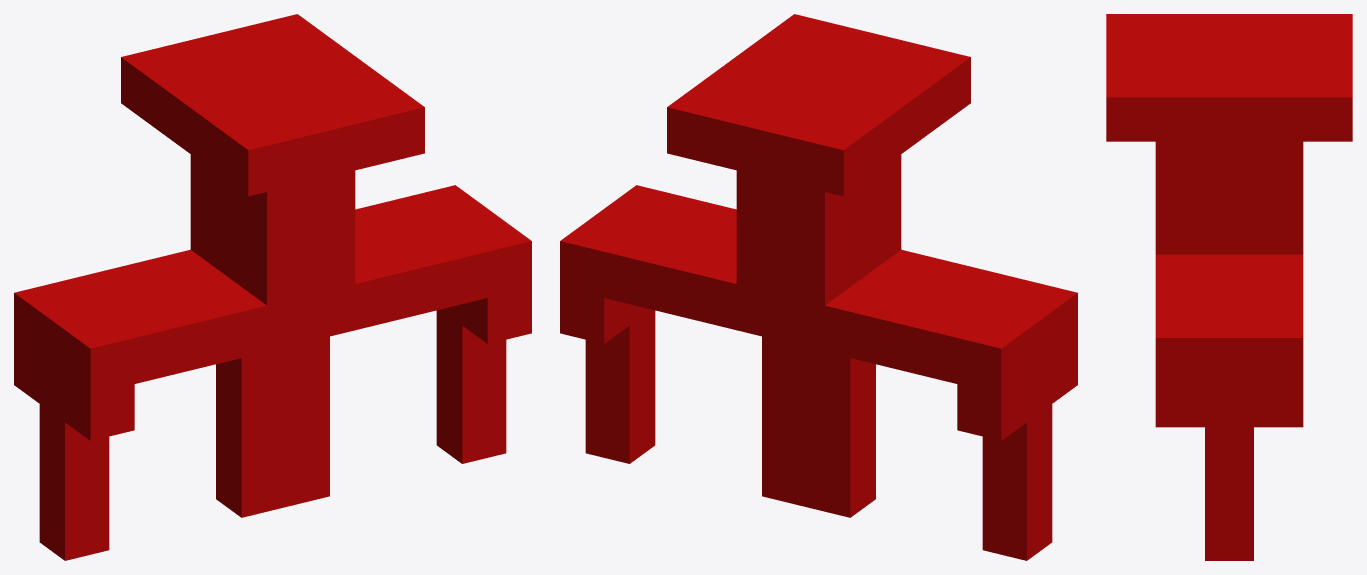
Rendered from StoneCannon-5-RedKey.obj.
3 renders of one model, left to right at view 1: azimuth 30°, elevation 25°; view 2: azimuth 150°, elevation 25°; view 3: azimuth 270°, elevation 25°, orthographic. The views are drawn at different scales.
Parts seen in each view (by area): view 1: RedKey; view 2: RedKey; view 3: RedKey.
Part boxes in pixels (x1,y1,x2,y2): RedKey: (14,14,531,560); RedKey: (560,14,1077,560); RedKey: (1106,14,1352,560).
Bounding box in the file's own units: 1 × 0.9 × 0.5.
1 material, 1 textured.
